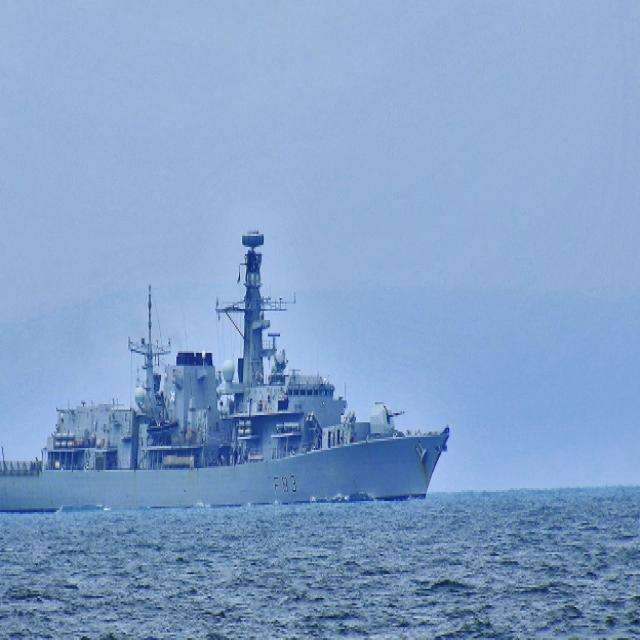Fragata: (1, 222, 452, 516)
